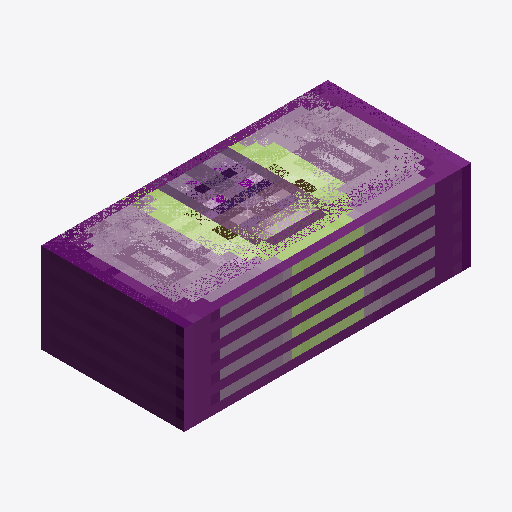
Isometric view (azimuth 45°, elevation 35.3°) of a Minecraft model made of 22 cuboids, textured from the same repository.
Visible parts, largest first — element 22, element 6, element 14, element 18, element 2, element 10, element 5, element 13, element 9, element 21, element 17.
Boxes of the visible parts, x1,y1,x2,y2 form: element 22: [41, 80, 470, 327]; element 6: [184, 225, 470, 410]; element 14: [184, 184, 470, 369]; element 18: [184, 163, 470, 348]; element 2: [184, 246, 470, 431]; element 10: [184, 205, 470, 389]; element 5: [41, 329, 183, 431]; element 13: [41, 287, 183, 389]; element 9: [41, 308, 183, 410]; element 21: [41, 246, 183, 348]; element 17: [41, 267, 183, 368].
Size of the model in its own units: 16 by 5 by 8.